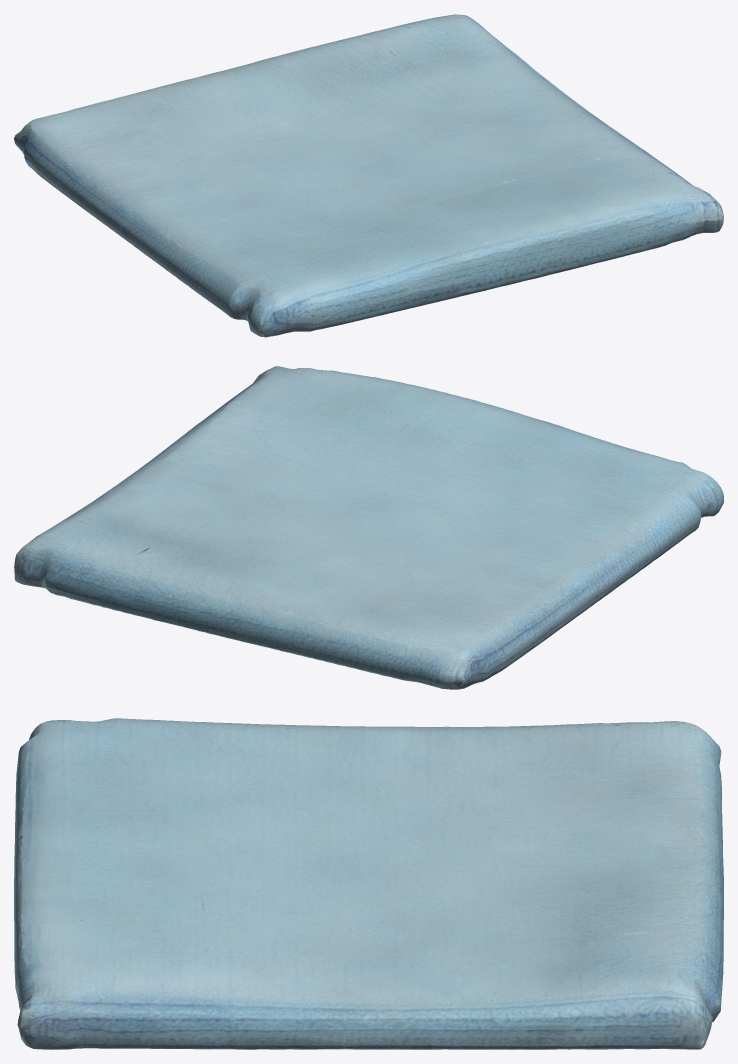
3 renders of one model, top to bottom at view 1: azimuth 30°, elevation 25°; view 2: azimuth 150°, elevation 25°; view 3: azimuth 270°, elevation 25°, orthographic. The views are drawn at different scales.
Parts seen in each view (by area): view 1: Model; view 2: Model; view 3: Model.
Boxes of the visible parts, x1=… form: Model: x1=14, y1=14, x2=723, y2=337; Model: x1=14, y1=366, x2=723, y2=689; Model: x1=14, y1=718, x2=723, y2=1049.
Size of the model in its own units: 0.1 by 0.1 by 0.01.
